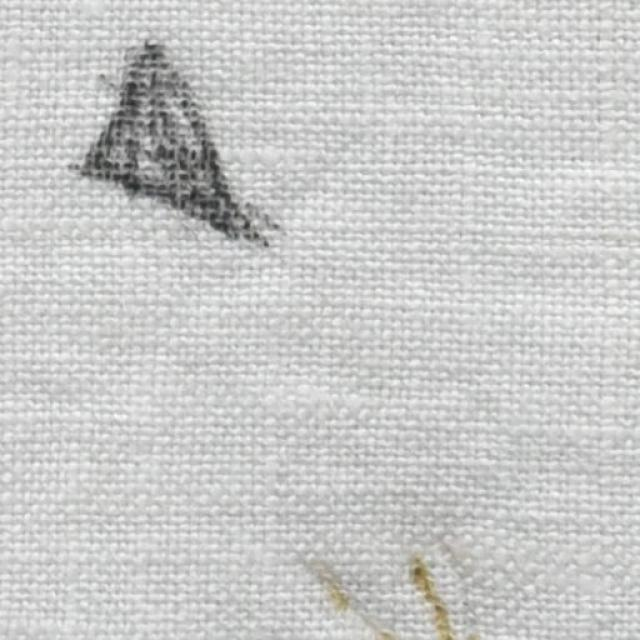Stain: (65, 38, 287, 248), (290, 532, 478, 640)
